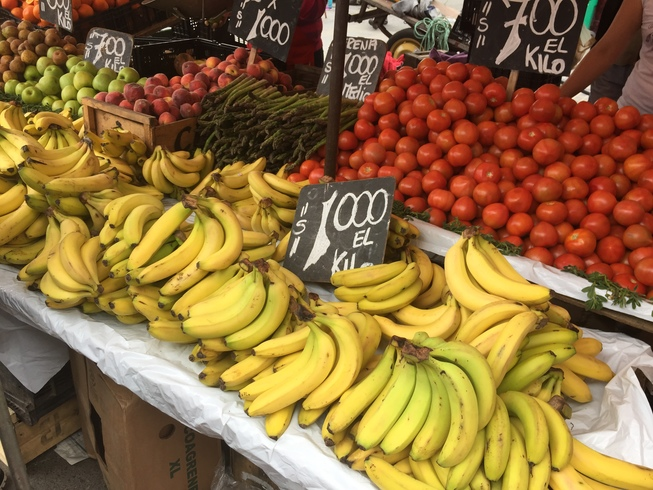precio: (275, 171, 403, 291), (461, 1, 592, 89), (311, 34, 395, 106), (229, 1, 299, 60), (82, 20, 142, 79), (34, 1, 80, 36)
